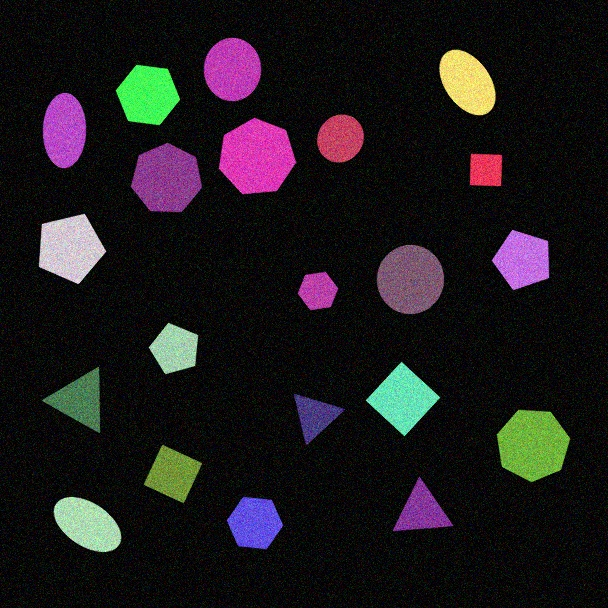Circulo: (376, 244, 445, 315), (203, 37, 262, 102), (316, 114, 365, 163)
Elipse: (53, 496, 122, 553), (439, 49, 496, 116), (42, 92, 87, 169)
Heptagono: (218, 117, 297, 195), (496, 409, 571, 483), (130, 142, 203, 213)
Hexagono: (115, 64, 181, 126), (226, 496, 284, 550), (297, 271, 339, 311)
Pentagono: (38, 213, 107, 285), (491, 229, 550, 291), (148, 322, 199, 375)
Quadrado: (365, 361, 441, 437), (143, 444, 203, 504), (469, 153, 503, 187)
Triangulo: (42, 366, 101, 434), (392, 477, 454, 532), (293, 393, 346, 446)
